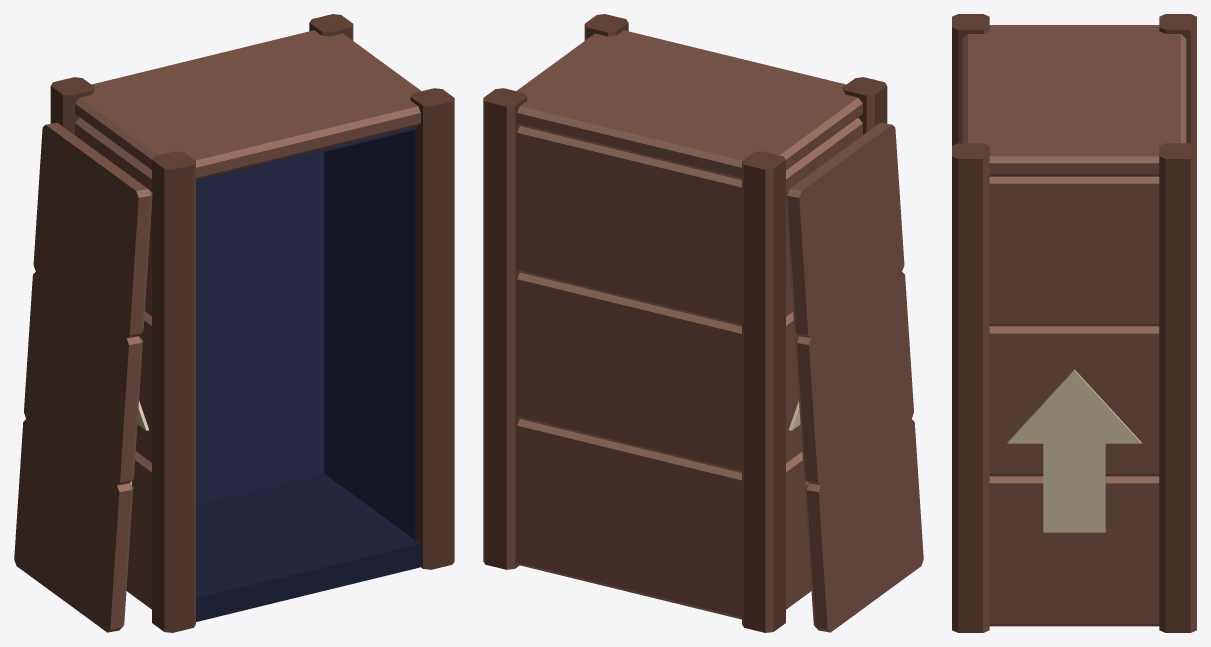
File: Hide_Crate.fbx
3 renders of one model, left to right at view 1: azimuth 30°, elevation 25°; view 2: azimuth 150°, elevation 25°; view 3: azimuth 270°, elevation 25°, orthographic. The views are drawn at different scales.
Parts seen in each view (by area): view 1: Hide_Crate; view 2: Hide_Crate; view 3: Hide_Crate.
Boxes of the visible parts, box(x1,y1,x2,y2) form: Hide_Crate: box(14, 14, 454, 632); Hide_Crate: box(483, 14, 923, 632); Hide_Crate: box(952, 14, 1196, 632).
Bounding box in the file's own units: 4.44 × 5.85 × 2.74.
Materials: 1 (1 with a texture image).
